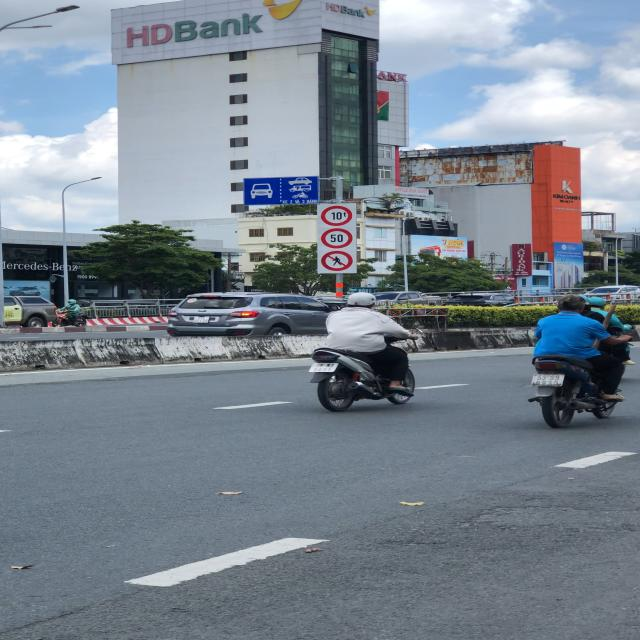Bien bao toc do toi da cho phep: (317, 227, 355, 251)
